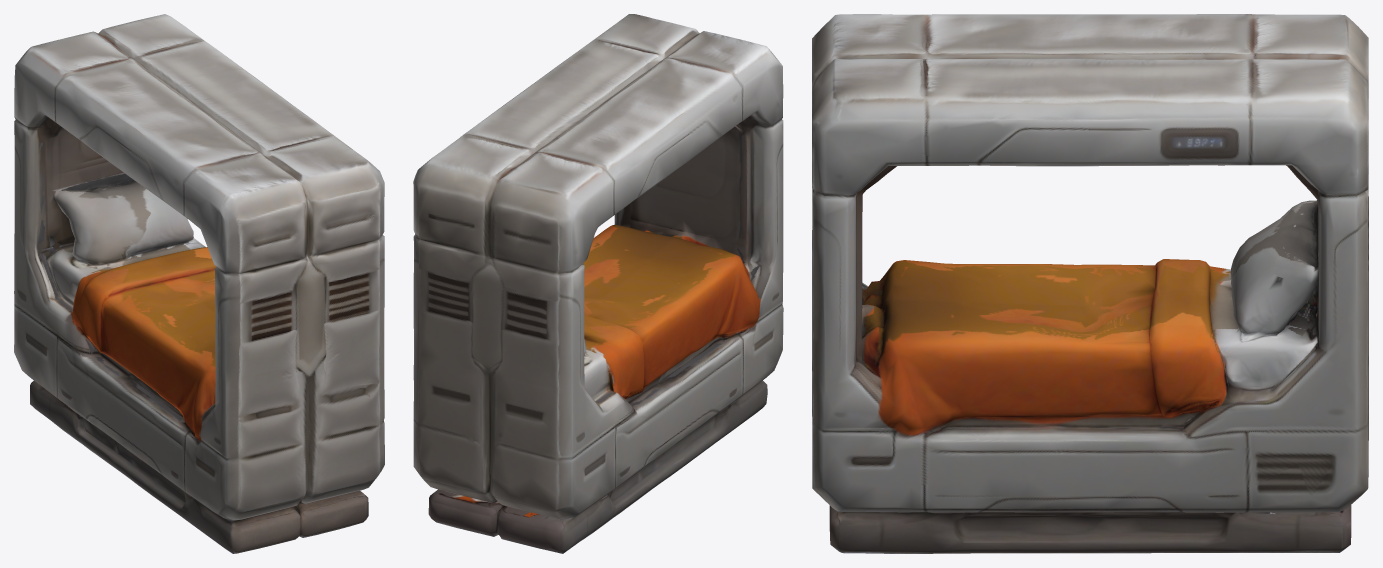
The model's file is Meshy_AI_Space_Pod_Cot_1220090005_texture.fbx.
The picture shows the model from 3 angles, left to right: view 1: azimuth 30°, elevation 25°; view 2: azimuth 150°, elevation 25°; view 3: azimuth 270°, elevation 25°; orthographic projection. The views are drawn at different scales.
Visible parts, largest first — view 1: input; view 2: input; view 3: input.
Boxes of the visible parts, box(x1,y1,x2,y2) form: input: box(14, 14, 384, 553); input: box(413, 14, 783, 553); input: box(812, 14, 1368, 553).
Bounding box in the file's own units: 87.96 × 181 × 199.
1 material, 1 textured.
